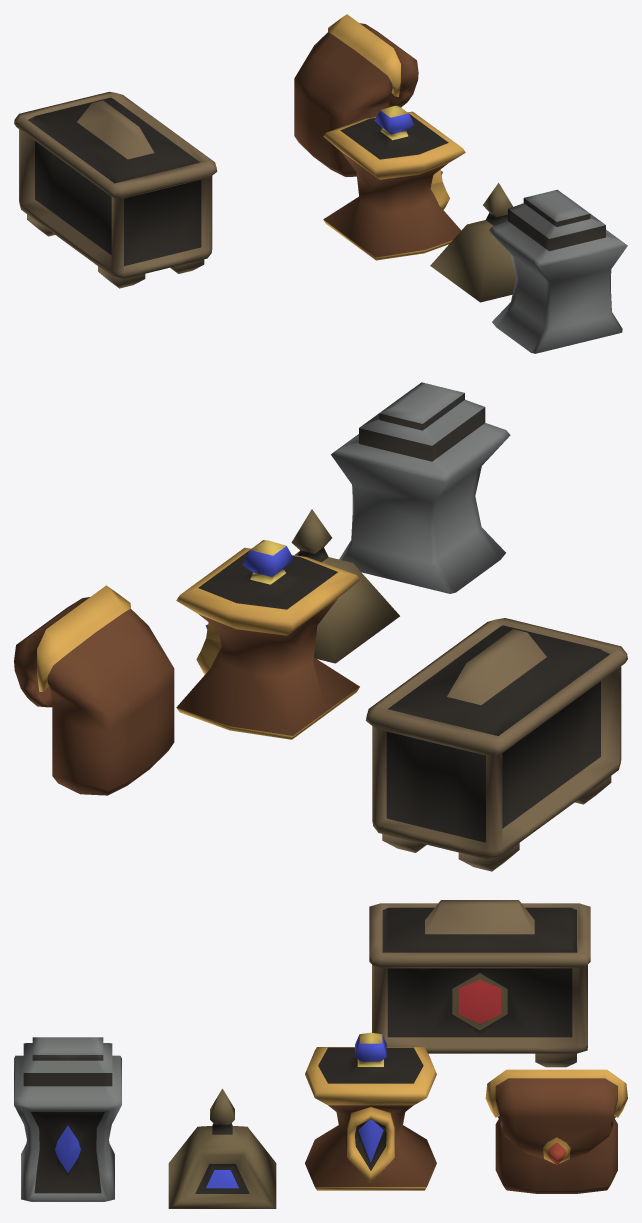
Rendered from TrasureBox.fbx.
3 views of the same model, one above another, from view 1: azimuth 30°, elevation 25°; view 2: azimuth 150°, elevation 25°; view 3: azimuth 270°, elevation 25° (orthographic). The views are drawn at different scales.
Visible parts, largest first — view 1: Cube, Cube.004, Cube.002, Cube.003, Cube.001; view 2: Cube, Cube.004, Cube.002, Cube.003, Cube.001; view 3: Cube, Cube.002, Cube.004, Cube.003, Cube.001.
Part boxes in pixels (bbox=[...]): Cube: bbox=[14, 91, 217, 288]; Cube.004: bbox=[488, 189, 627, 353]; Cube.002: bbox=[323, 105, 465, 260]; Cube.003: bbox=[294, 14, 418, 176]; Cube.001: bbox=[430, 182, 515, 302]; Cube: bbox=[366, 618, 627, 871]; Cube.004: bbox=[331, 382, 510, 593]; Cube.002: bbox=[176, 540, 359, 739]; Cube.003: bbox=[14, 585, 174, 795]; Cube.001: bbox=[291, 509, 399, 663]; Cube: bbox=[369, 900, 590, 1067]; Cube.002: bbox=[305, 1032, 436, 1190]; Cube.004: bbox=[14, 1037, 121, 1201]; Cube.003: bbox=[485, 1069, 627, 1193]; Cube.001: bbox=[168, 1088, 276, 1208].
Bounding box in the file's own units: 854 × 297 × 1138.
